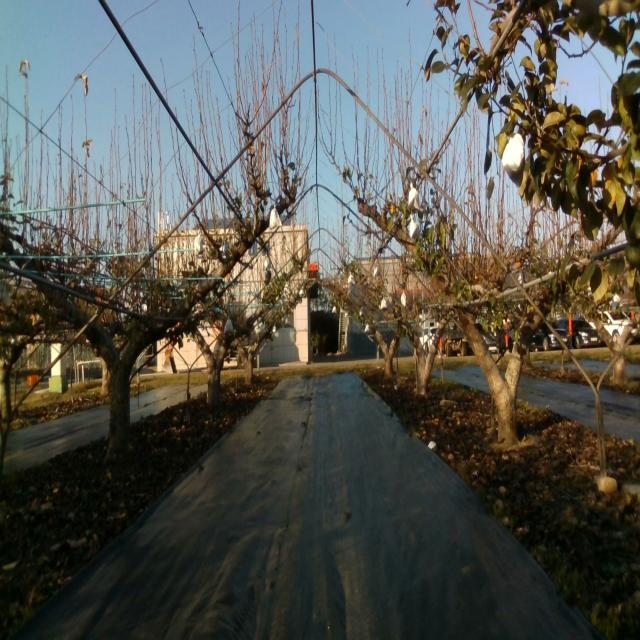pearbags: (500, 132, 524, 183), (193, 233, 207, 258), (269, 204, 282, 230), (409, 183, 420, 213), (410, 213, 420, 240)
